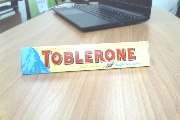Chocolate: (13, 41, 159, 76)
